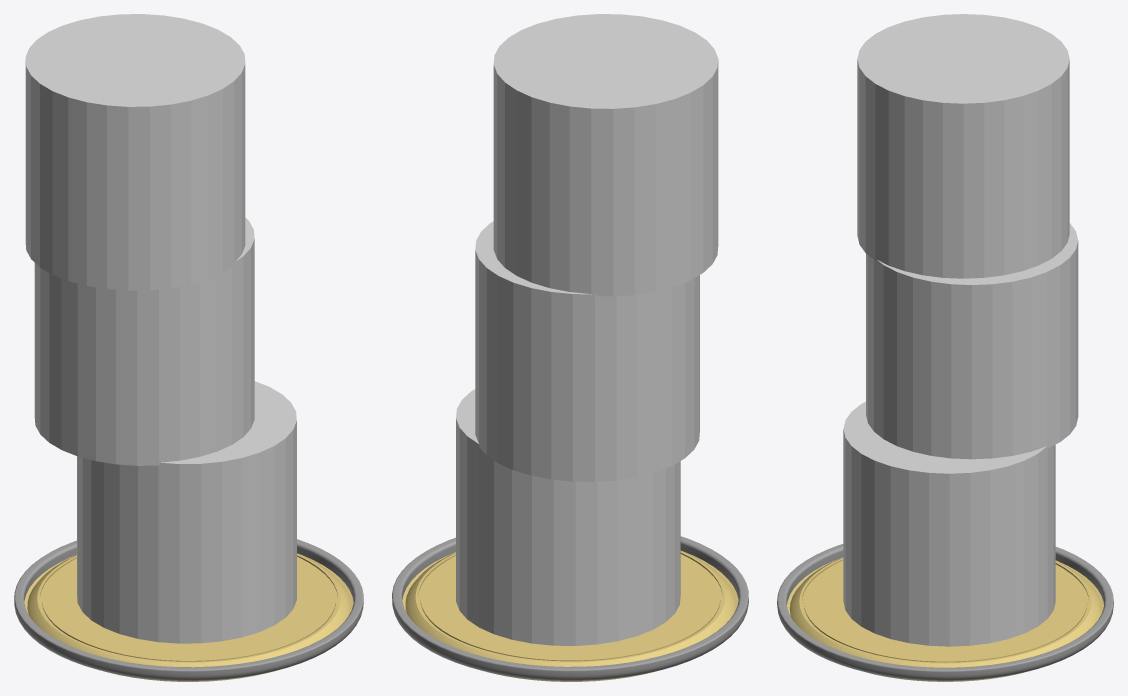
File: Tower Lvl 3 Test.fbx
The picture shows the model from 3 angles, left to right: view 1: azimuth 30°, elevation 25°; view 2: azimuth 150°, elevation 25°; view 3: azimuth 270°, elevation 25°; orthographic projection. The views are drawn at different scales.
Parts seen in each view (by area): view 1: Cylinder.012, Cylinder.010, Cylinder.011, Cylinder.009; view 2: Cylinder.012, Cylinder.011, Cylinder.010, Cylinder.009; view 3: Cylinder.012, Cylinder.010, Cylinder.011, Cylinder.009.
Boxes of the visible parts, x1,y1,x2,y2 form: Cylinder.012: (25, 14, 245, 290); Cylinder.010: (77, 381, 296, 643); Cylinder.011: (34, 217, 254, 465); Cylinder.009: (14, 539, 363, 681); Cylinder.012: (493, 14, 718, 296); Cylinder.011: (475, 221, 699, 481); Cylinder.010: (456, 389, 680, 645); Cylinder.009: (392, 536, 748, 681); Cylinder.012: (857, 14, 1069, 278); Cylinder.010: (843, 401, 1055, 646); Cylinder.011: (866, 223, 1078, 459); Cylinder.009: (777, 544, 1113, 681).
Size of the model in its own units: 200 by 353 by 200.
